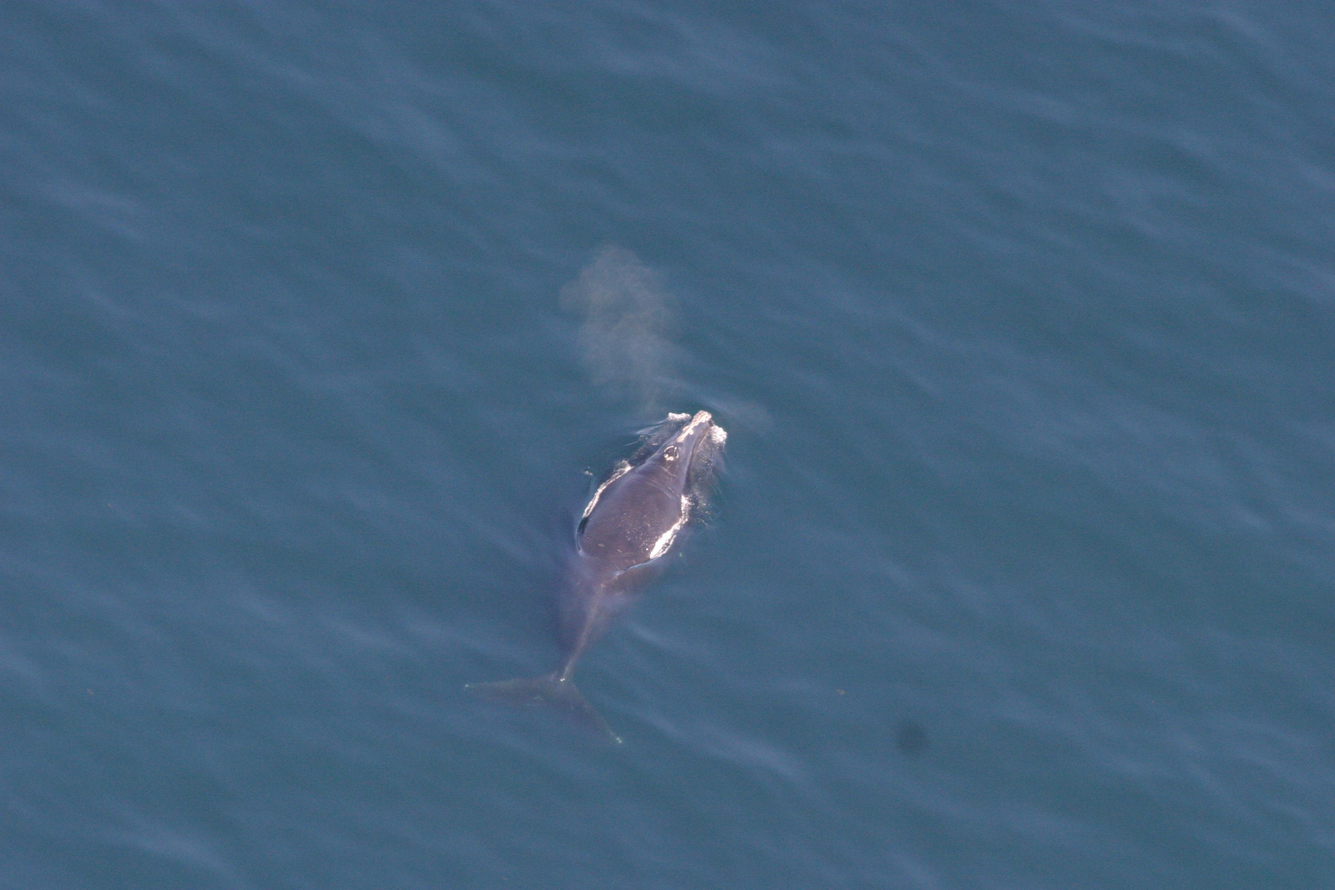whale: (453, 402, 734, 765)
